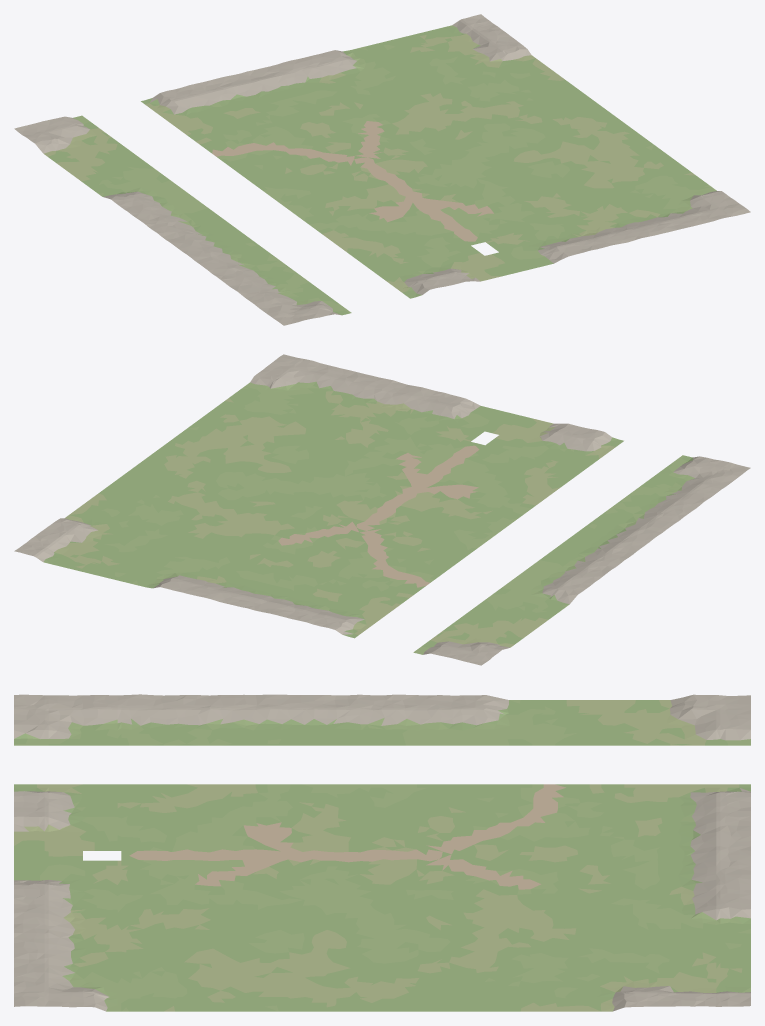
Rendered from srf_terr_ground.glb.
3 views of the same model, one above another, from view 1: azimuth 30°, elevation 25°; view 2: azimuth 150°, elevation 25°; view 3: azimuth 270°, elevation 25° (orthographic). The views are drawn at different scales.
Parts seen in each view (by area): view 1: srf_terr_ground; view 2: srf_terr_ground; view 3: srf_terr_ground.
Boxes of the visible parts, x1=… form: srf_terr_ground: x1=14, y1=14, x2=750, y2=325; srf_terr_ground: x1=14, y1=354, x2=750, y2=665; srf_terr_ground: x1=14, y1=694, x2=750, y2=1011.
Size of the model in its own units: 96 by 0.8474 by 96.
